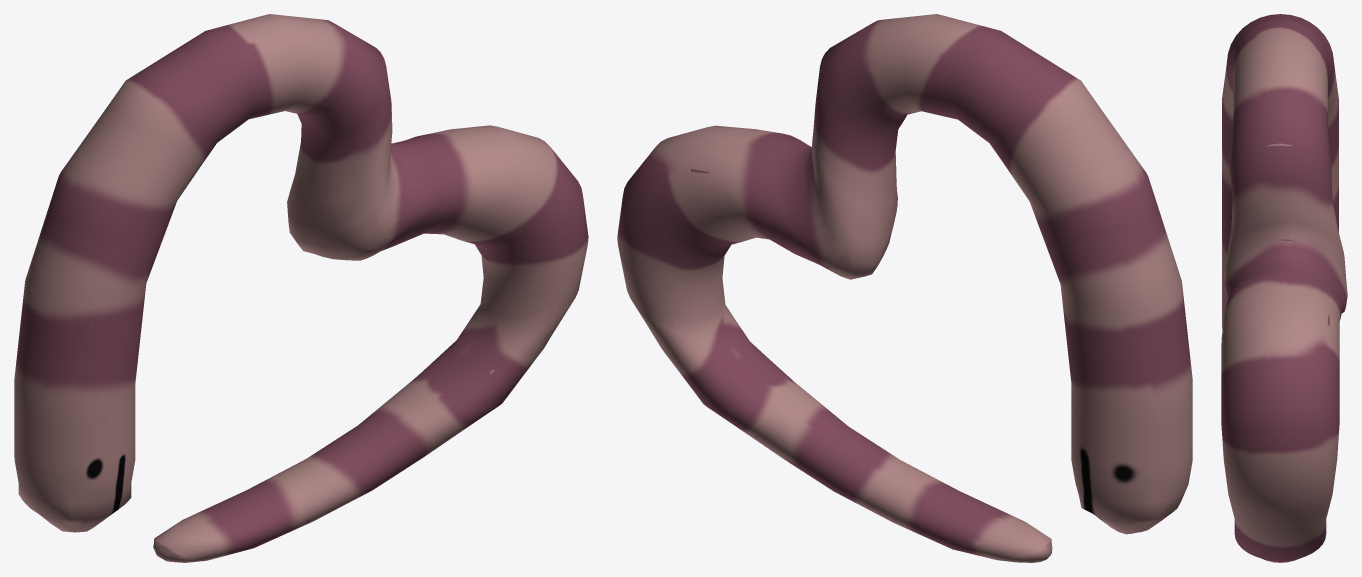
Rendered from wormHeart.fbx.
The picture shows the model from 3 angles, left to right: view 1: azimuth 30°, elevation 25°; view 2: azimuth 150°, elevation 25°; view 3: azimuth 270°, elevation 25°; orthographic projection. The views are drawn at different scales.
Parts seen in each view (by area): view 1: worm heart; view 2: worm heart; view 3: worm heart.
Part boxes in pixels (box(x1,y1,x2,y2)): worm heart: box(14, 14, 588, 562); worm heart: box(617, 14, 1192, 562); worm heart: box(1221, 14, 1347, 562).
Size of the model in its own units: 157 by 140 by 32.07.
Materials: 1 (1 with a texture image).
